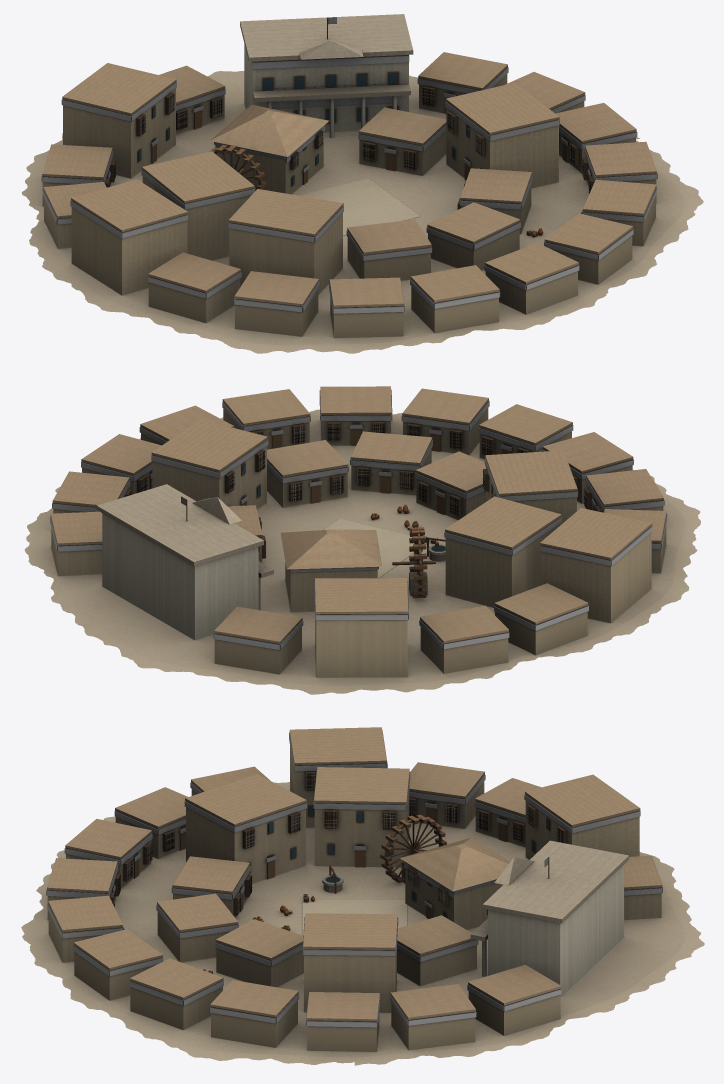
Rendered from gunpowder-town-big-b-nile.glb.
3 renders of one model, top to bottom at view 1: azimuth 30°, elevation 25°; view 2: azimuth 150°, elevation 25°; view 3: azimuth 270°, elevation 25°, orthographic.
Parts seen in each view (by area): view 1: LOD0; view 2: LOD0; view 3: LOD0.
Part boxes in pixels (x1,y1,x2,y2): LOD0: [21, 14, 703, 353]; LOD0: [24, 386, 700, 694]; LOD0: [21, 727, 704, 1065].
Size of what is drawn, in the model's own units: 7.9 by 1.32 by 8.
Materials: 3 (3 with a texture image).
